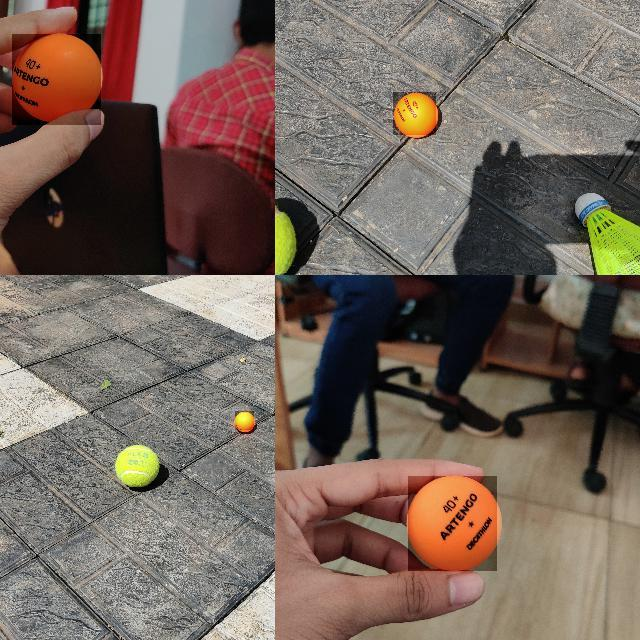ping-pong-ball: (408, 476, 498, 572), (12, 34, 102, 126), (393, 92, 437, 136), (235, 411, 255, 431)
